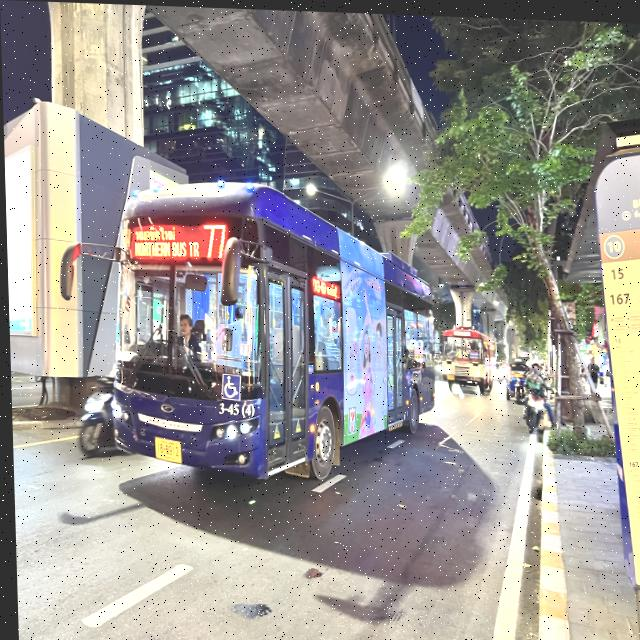BMTA-bus: (438, 320, 497, 394)
Bus-Line-Number: (201, 215, 226, 258), (452, 327, 470, 332)
Destination-Sign-Normal: (130, 221, 198, 261), (467, 348, 480, 355)
TSB-Bus: (101, 167, 440, 494)
